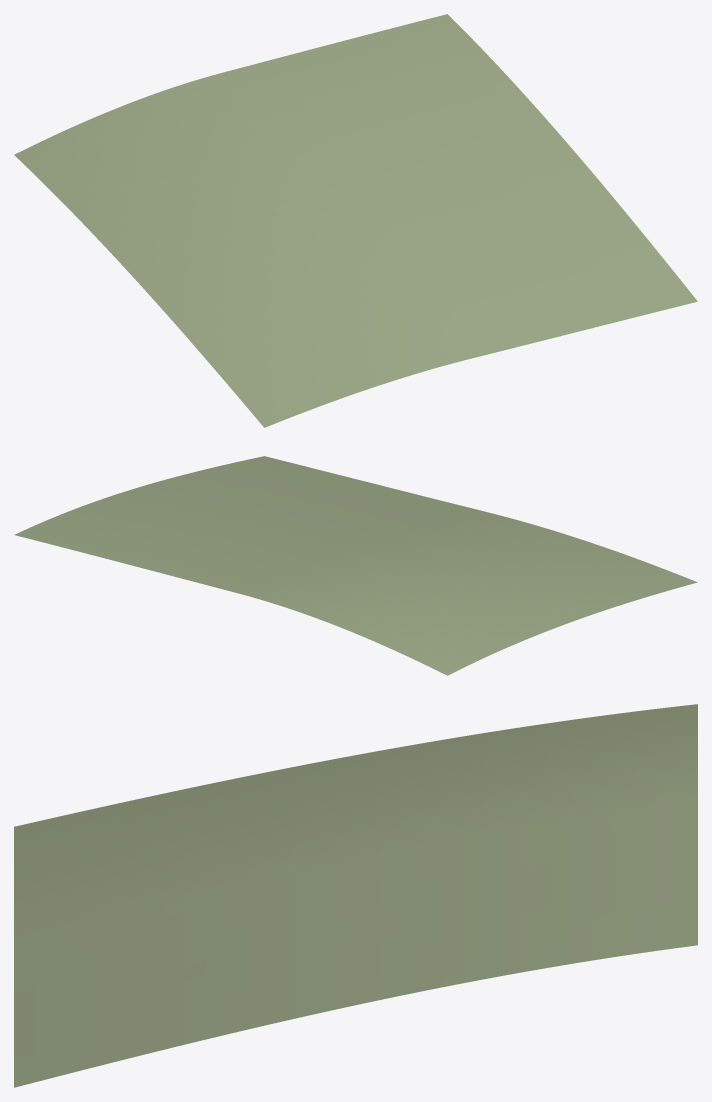
File: expanse-26-18.glb
The picture shows the model from 3 angles, top to bottom: view 1: azimuth 30°, elevation 25°; view 2: azimuth 150°, elevation 25°; view 3: azimuth 270°, elevation 25°; orthographic projection. The views are drawn at different scales.
Parts seen in each view (by area): view 1: expanse-26-18; view 2: expanse-26-18; view 3: expanse-26-18.
Part boxes in pixels (<box>): expanse-26-18: <box>14,14,697,427</box>; expanse-26-18: <box>14,456,697,675</box>; expanse-26-18: <box>14,704,697,1087</box>.
Bounding box in the file's own units: 256 × 70.43 × 256.
